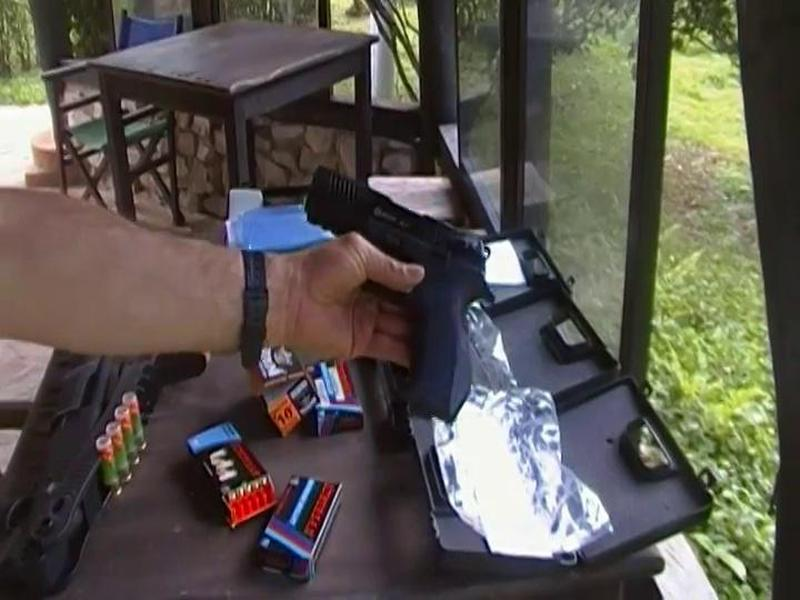Pistola: (294, 163, 497, 437)
